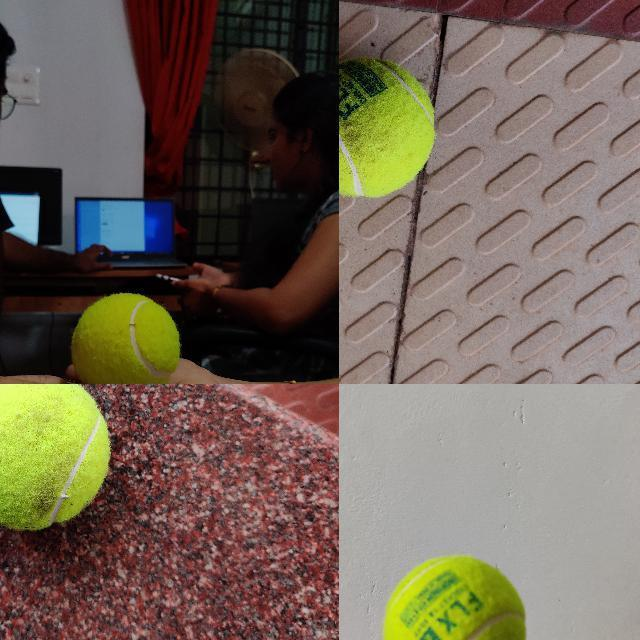tennis-ball: (0, 384, 110, 530), (339, 58, 435, 197), (382, 554, 527, 639), (71, 292, 180, 383)
